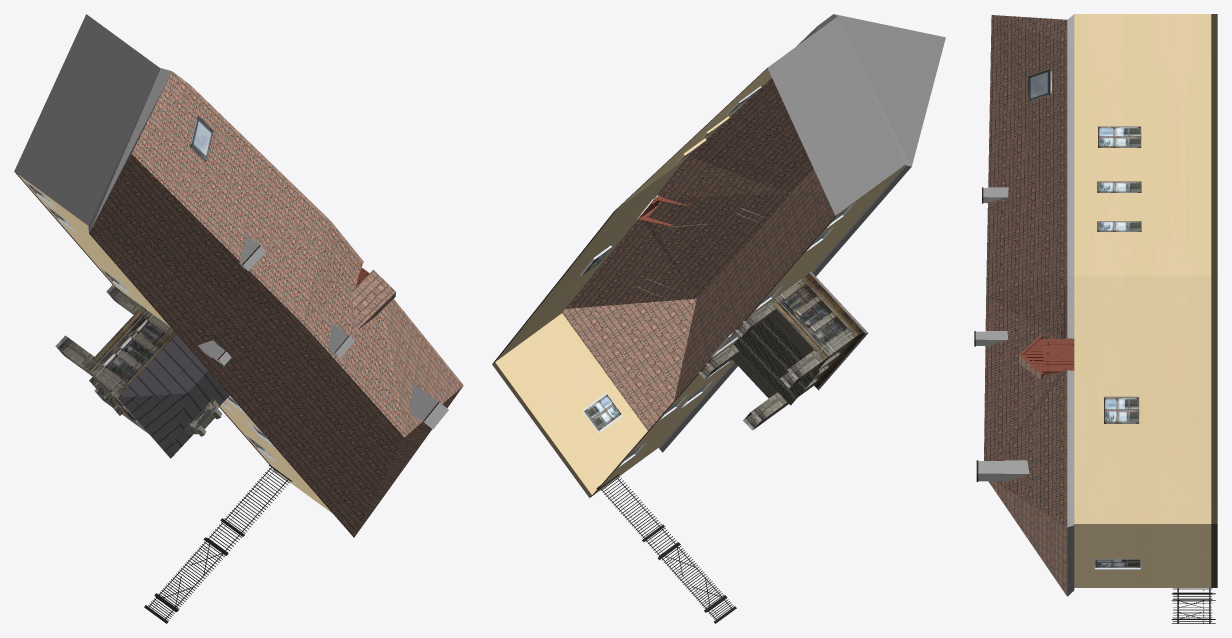
Rendered from Kohtu-3.obj.
The picture shows the model from 3 angles, left to right: view 1: azimuth 30°, elevation 25°; view 2: azimuth 150°, elevation 25°; view 3: azimuth 270°, elevation 25°; orthographic projection. The views are drawn at different scales.
Visible parts, largest first — view 1: Kohtu_3; view 2: Kohtu_3; view 3: Kohtu_3.
Part boxes in pixels (left/top/right/bottom): Kohtu_3: left=14, top=14, right=463, bottom=623; Kohtu_3: left=492, top=14, right=945, bottom=623; Kohtu_3: left=974, top=14, right=1217, bottom=623.
Bounding box in the file's own units: 22.72 × 35.12 × 13.28.
